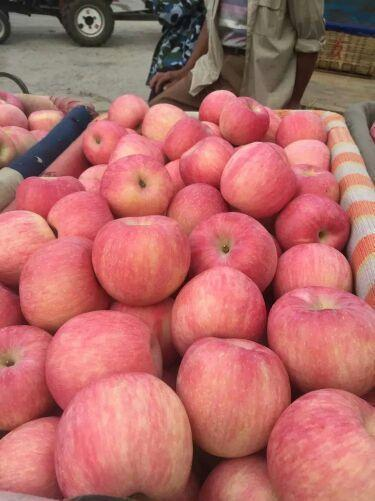apple: (55, 365, 192, 496), (175, 339, 290, 463), (265, 288, 374, 399), (46, 309, 164, 410), (265, 388, 374, 496), (92, 212, 189, 300), (170, 267, 267, 355), (20, 235, 111, 325), (188, 210, 276, 294), (1, 326, 58, 432), (217, 140, 297, 212), (100, 153, 171, 216), (273, 196, 350, 253), (1, 211, 50, 285), (219, 94, 268, 142), (80, 120, 127, 165), (139, 104, 186, 147), (276, 112, 326, 148), (105, 94, 148, 131), (281, 140, 330, 172)
